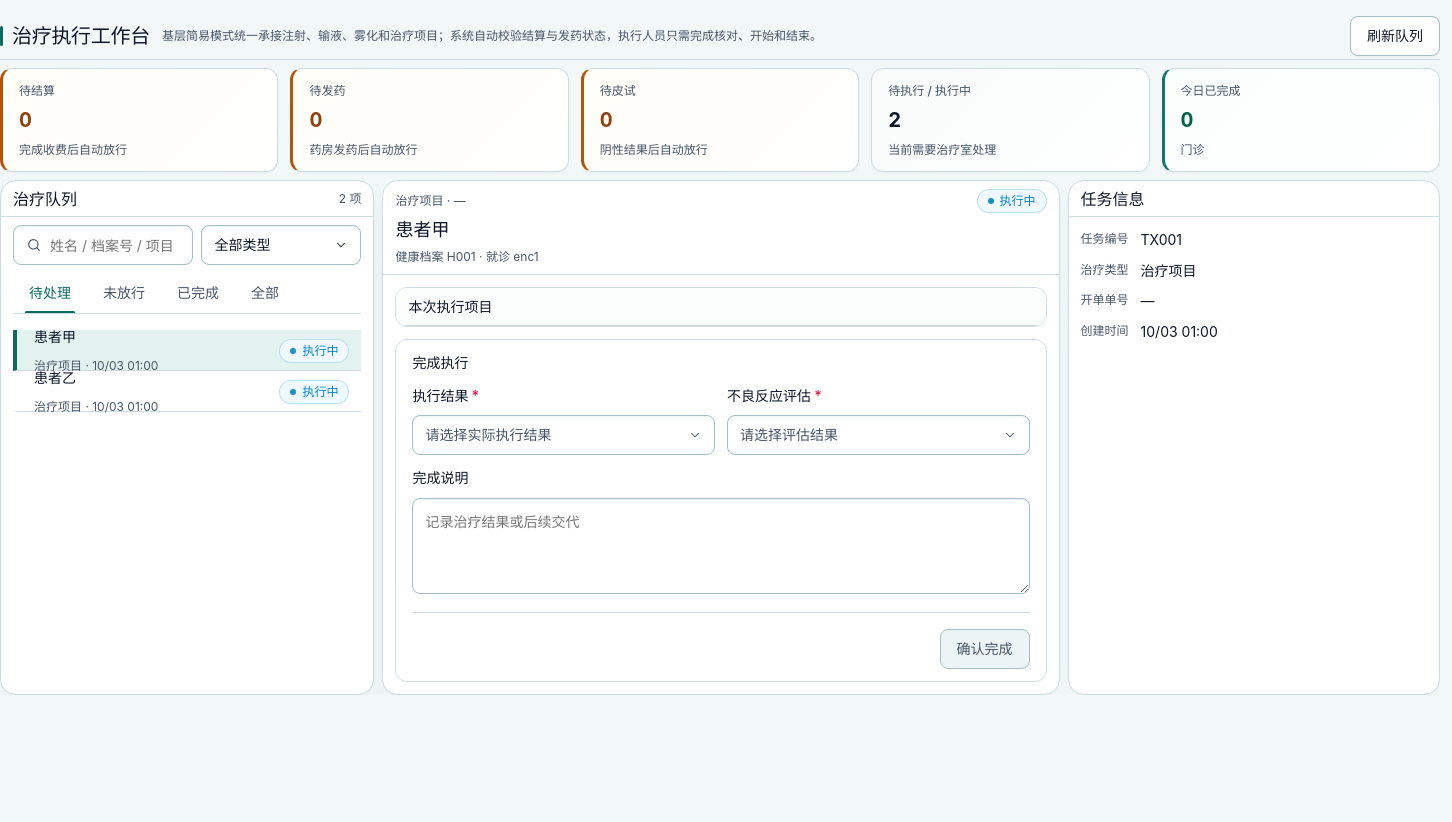
explicit treatment assessment › clears the assessment when changing patients
Expected: the heading "完成执行" is shown, [412,354,468,371]
Click the dropdown labelled "请选择实际执行结果" at (488, 435), box [412,415,715,455]
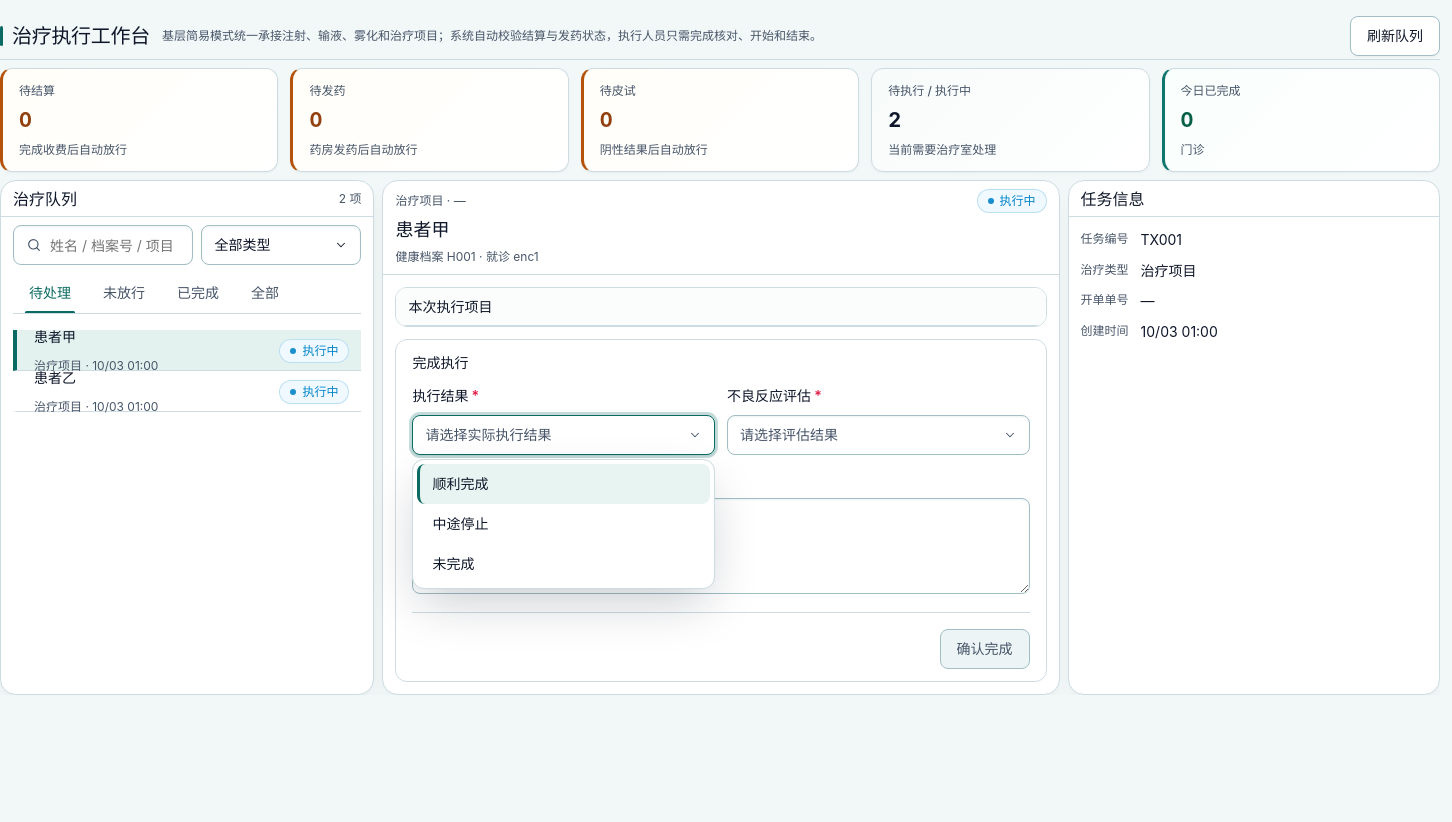
Click the option "顺利完成" at (460, 484), box [417,464,710,504]
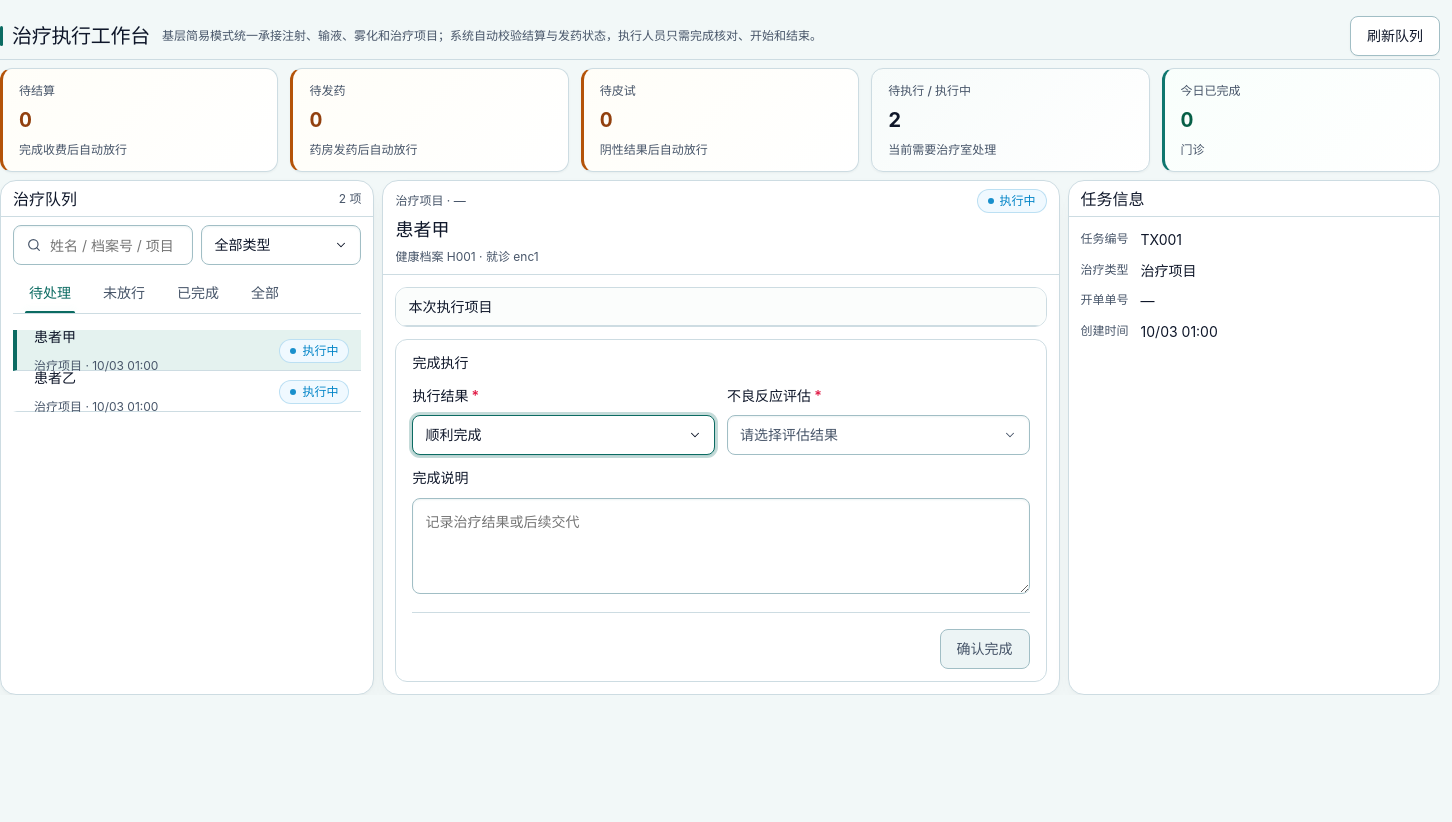
Click the dropdown named "不良反应评估" at (789, 435), box [727,415,1030,455]
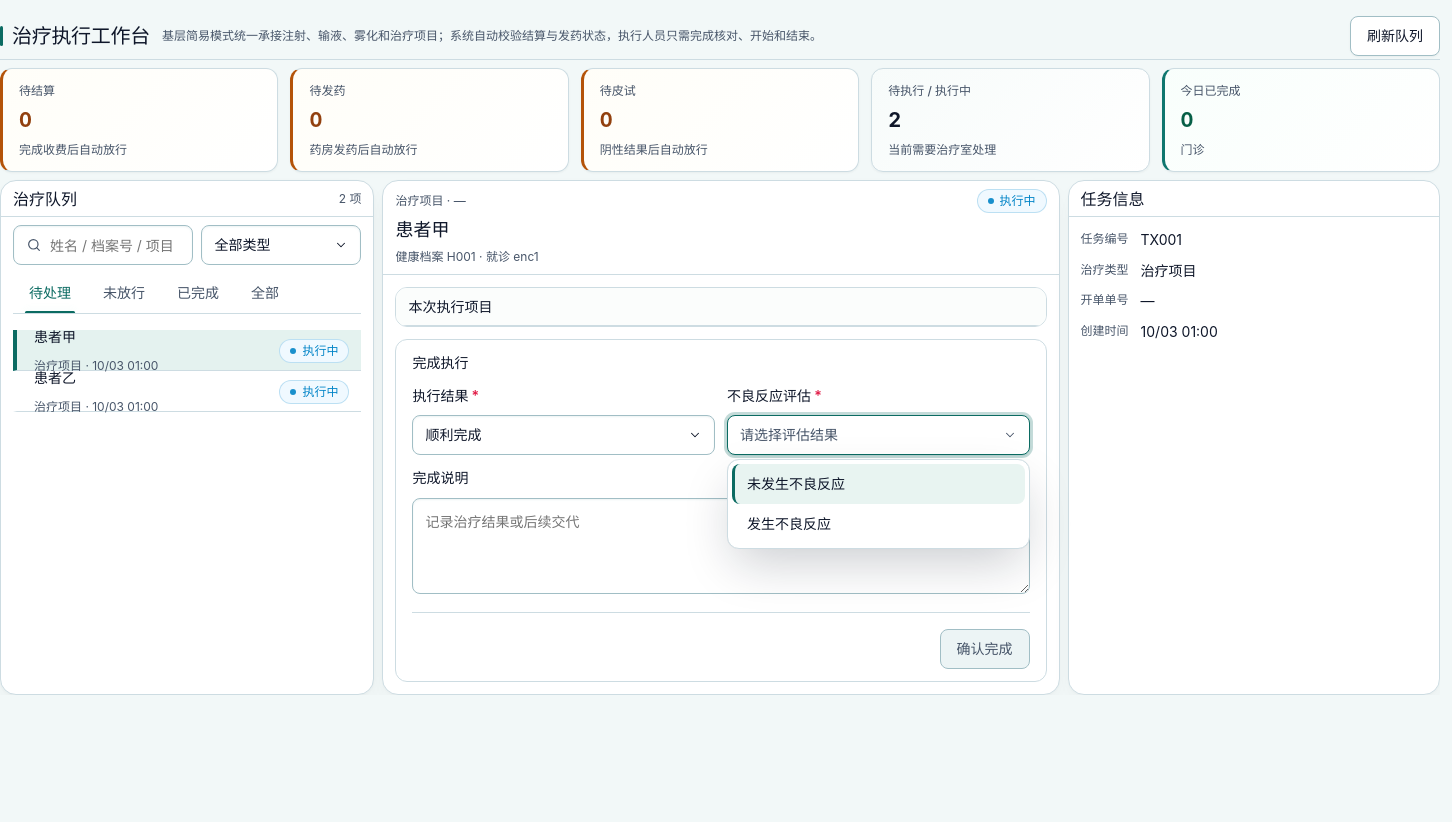
Click the option "未发生不良反应" at (796, 484), box [732,464,1025,504]
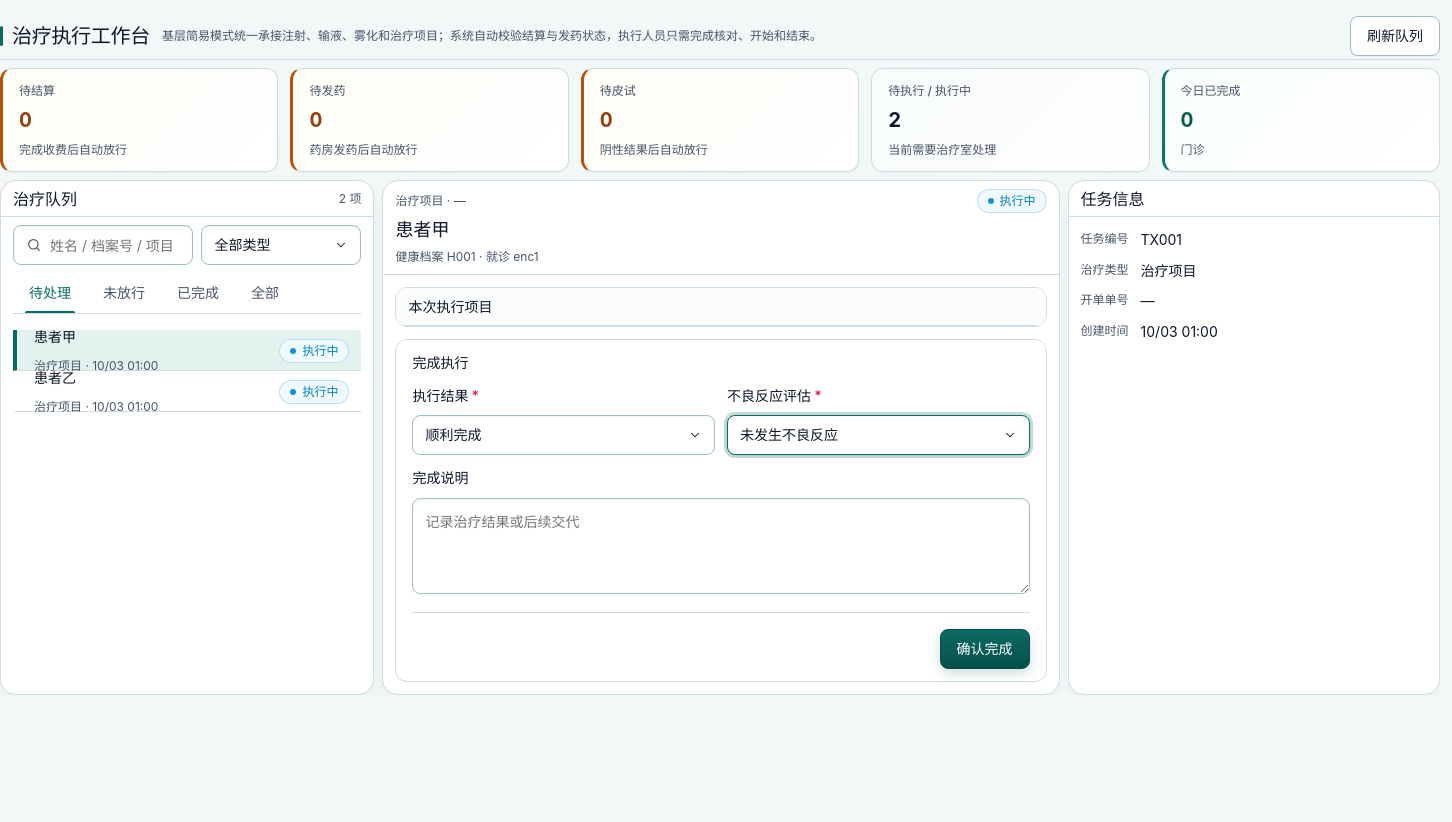
Click the button "患者乙 治疗项目 · 10/03 01:00" at (55, 378), box [17,371,279,411]
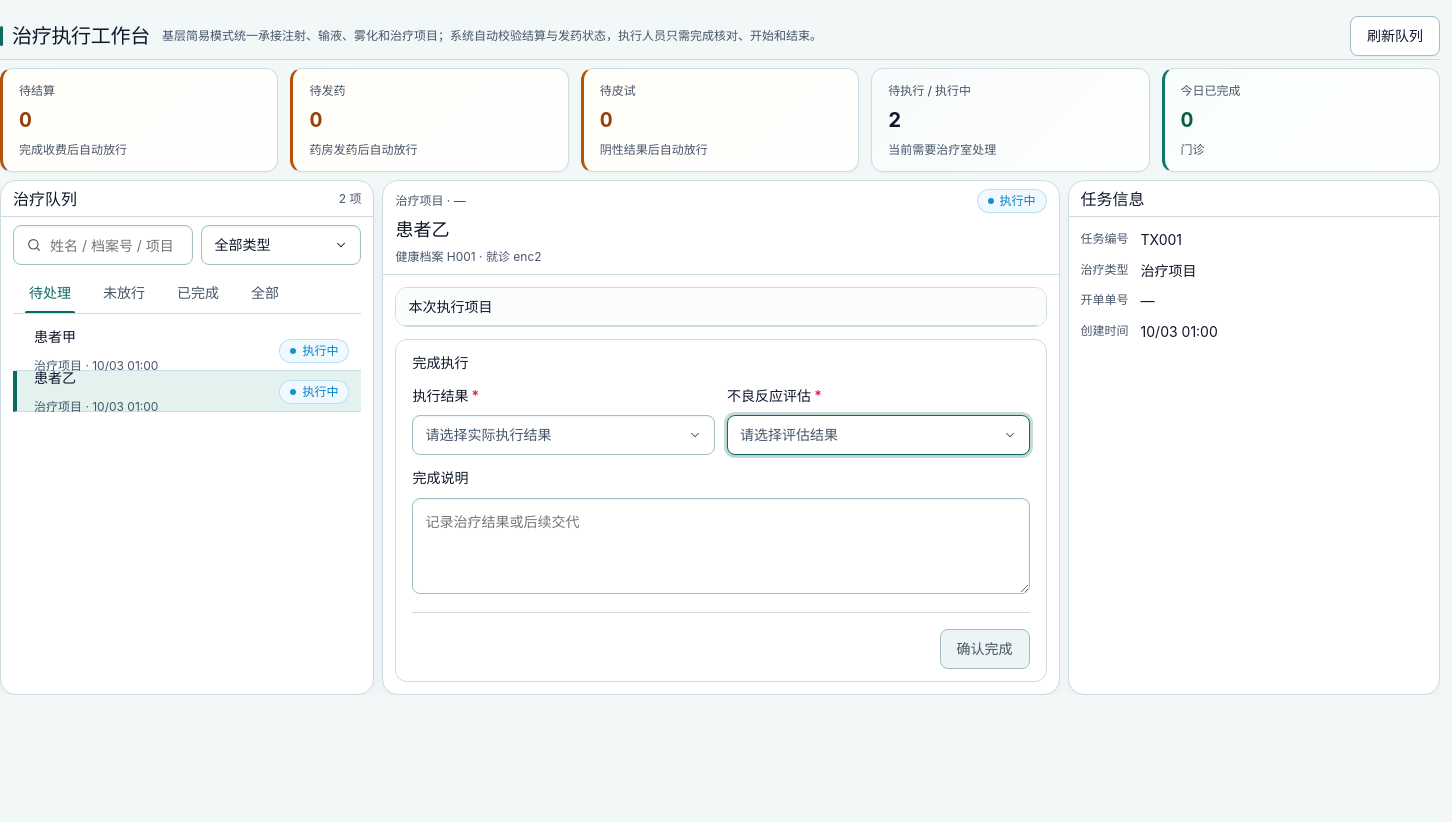
Now the dropdown labelled "请选择实际执行结果" is shown, box [412,415,715,455]
Now the dropdown named "不良反应评估" reads "请选择评估结果", box [727,415,1030,455]
Now the button "确认完成" is disabled, box [940,629,1030,669]
